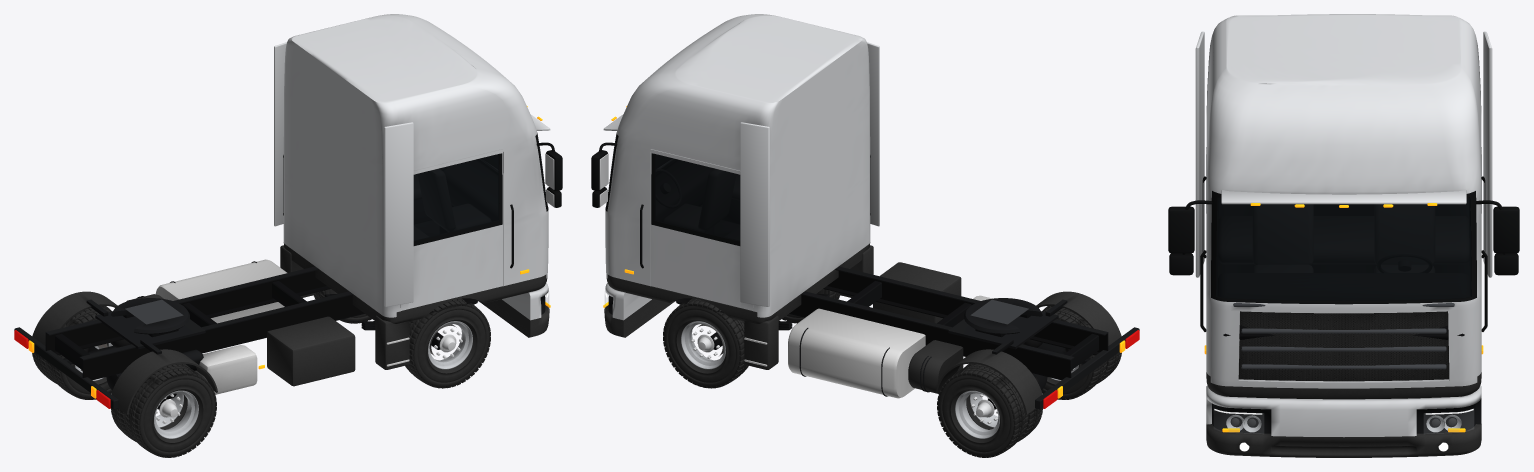
File: truck-hi-v1.glb
3 renders of one model, left to right at view 1: azimuth 30°, elevation 25°; view 2: azimuth 150°, elevation 25°; view 3: azimuth 270°, elevation 25°, orthographic. The views are drawn at different scales.
Visible parts, largest first — view 1: cab_body, chassis_mesh, door_R_panel, glass_R, interior, battery_box_mesh, tyre_R1R_o, tyre_FR, fifth_wheel_mesh, fuel_tank_mesh, bumper, tyre_R1L_i (+4 smaller); view 2: cab_body, chassis_mesh, fuel_tank_mesh, door_L_panel, glass_L, interior, tyre_R1L_o, tyre_FL, fifth_wheel_mesh, bumper, adblue_mesh, battery_box_mesh (+5 smaller); view 3: cab_body, glass_windscreen, interior, bumper, headlamps, mirror_L, mirror_R.
Part boxes in pixels (bbox=[...]): cab_body: bbox=[274, 14, 550, 323]; chassis_mesh: bbox=[14, 245, 477, 414]; door_R_panel: bbox=[400, 149, 503, 311]; glass_R: bbox=[413, 154, 499, 241]; interior: bbox=[414, 154, 498, 312]; battery_box_mesh: bbox=[267, 316, 355, 386]; tyre_R1R_o: bbox=[125, 364, 216, 457]; tyre_FR: bbox=[405, 298, 490, 388]; fifth_wheel_mesh: bbox=[95, 298, 205, 349]; fuel_tank_mesh: bbox=[155, 259, 286, 323]; bumper: bbox=[479, 282, 549, 337]; tyre_R1L_i: bbox=[46, 307, 112, 399]; cab_body: bbox=[603, 14, 879, 323]; chassis_mesh: bbox=[676, 245, 1139, 414]; fuel_tank_mesh: bbox=[788, 308, 925, 398]; door_L_panel: bbox=[650, 149, 753, 311]; glass_L: bbox=[654, 154, 740, 241]; interior: bbox=[655, 154, 739, 312]; tyre_R1L_o: bbox=[937, 364, 1028, 457]; tyre_FL: bbox=[663, 298, 748, 388]; fifth_wheel_mesh: bbox=[948, 298, 1058, 349]; bumper: bbox=[604, 282, 674, 337]; adblue_mesh: bbox=[908, 340, 963, 393]; battery_box_mesh: bbox=[873, 262, 961, 323]; cab_body: bbox=[1195, 14, 1492, 399]; glass_windscreen: bbox=[1216, 197, 1471, 300]; interior: bbox=[1218, 197, 1469, 339]; bumper: bbox=[1206, 385, 1481, 457]; headlamps: bbox=[1214, 408, 1473, 451]; mirror_L: bbox=[1475, 200, 1519, 275]; mirror_R: bbox=[1168, 200, 1212, 275].
Size of the model in its own units: 5.99 by 3.8 by 3.18.
Materials: 25 (6 with a texture image).
